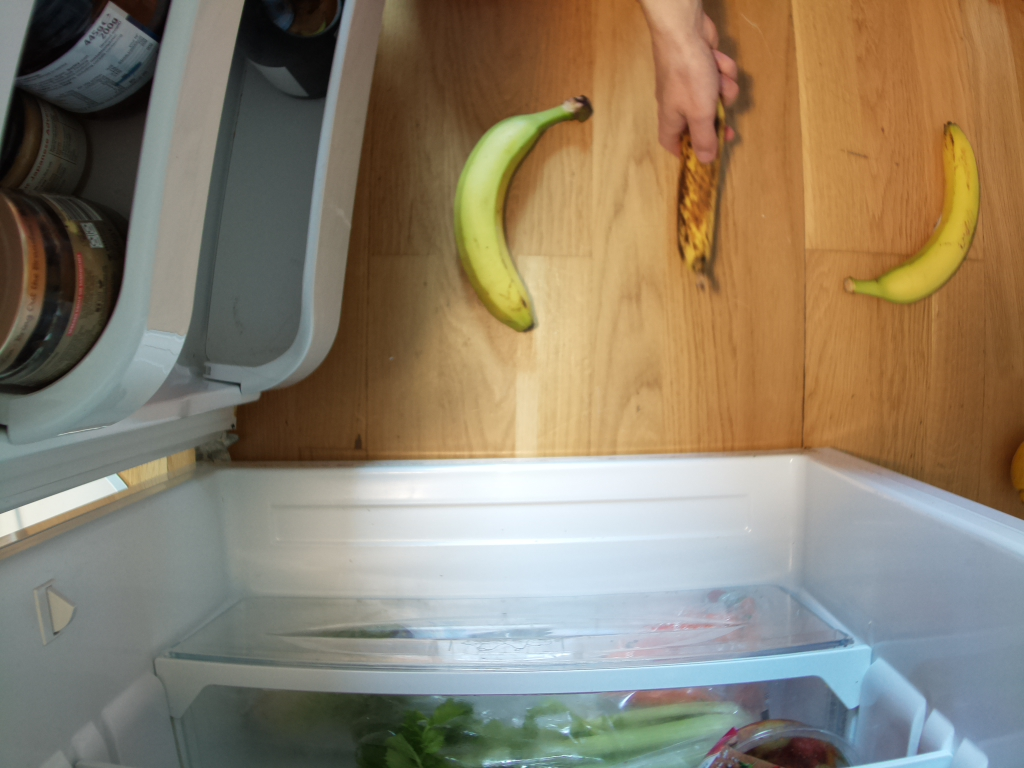banana-overripe: (675, 121, 729, 298)
banana-unripe: (456, 94, 591, 333), (840, 117, 980, 308)
